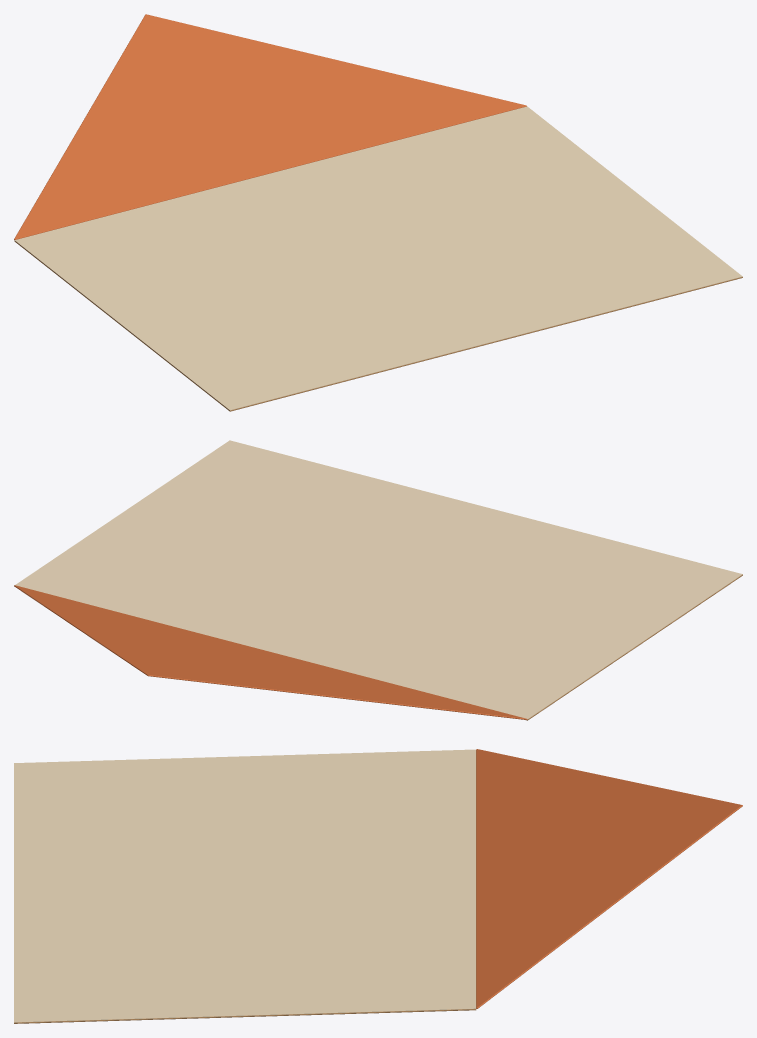
Rendered from Envelope.glb.
3 renders of one model, top to bottom at view 1: azimuth 30°, elevation 25°; view 2: azimuth 150°, elevation 25°; view 3: azimuth 270°, elevation 25°, orthographic. The views are drawn at different scales.
Visible parts, largest first — view 1: ENV_Letter, ENV_Flap, ENV_Body; view 2: ENV_Letter, ENV_Flap; view 3: ENV_Letter, ENV_Flap, ENV_Body.
Boxes of the visible parts, x1,y1,x2,y2 form: ENV_Letter: (14,106,742,410); ENV_Flap: (14,14,526,239); ENV_Body: (14,240,742,411); ENV_Letter: (15,440,742,719); ENV_Flap: (14,585,527,719); ENV_Letter: (14,749,475,1022); ENV_Flap: (476,749,742,1008); ENV_Body: (14,750,476,1023).
Bounding box in the file's own units: 0.4401 × 0.0711 × 0.5044.
